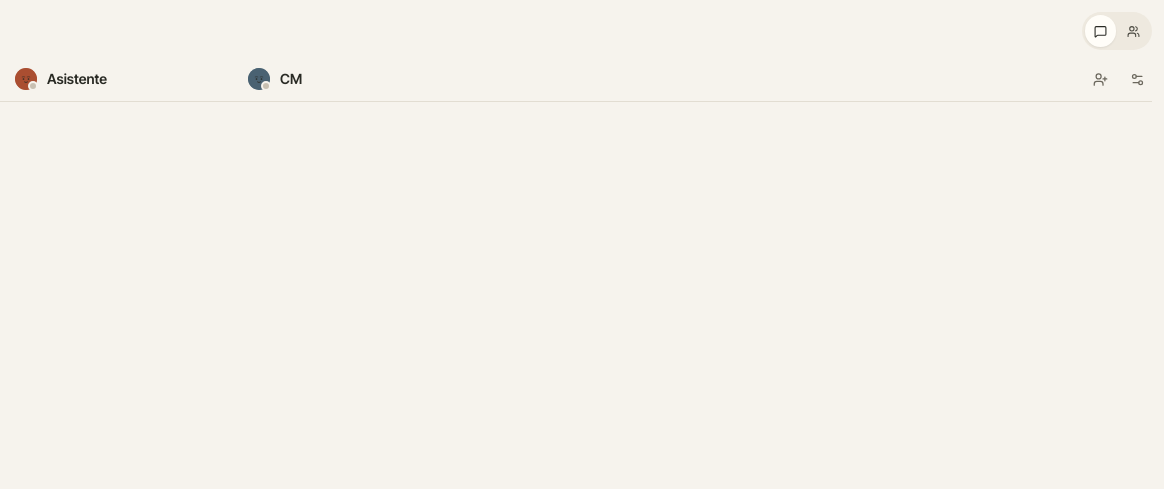
Test case: el destinatario del chat de equipo › con un run CANCELADO y su coordinador borrado, escribe Y muestra el hilo del Asistente
Step 1. Click the button with class "team-rail-team" → coordinates (1134, 31), box top-left (1118, 15), bottom-right (1149, 47)
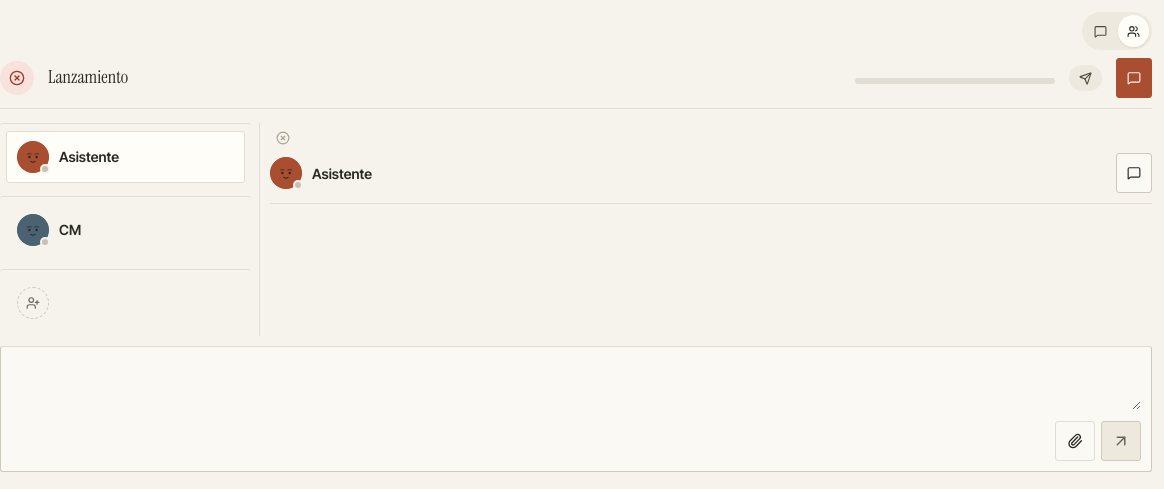
Step 2. Type "seguimos con esto" into the text box → coordinates (576, 382), box top-left (11, 355), bottom-right (1141, 410)
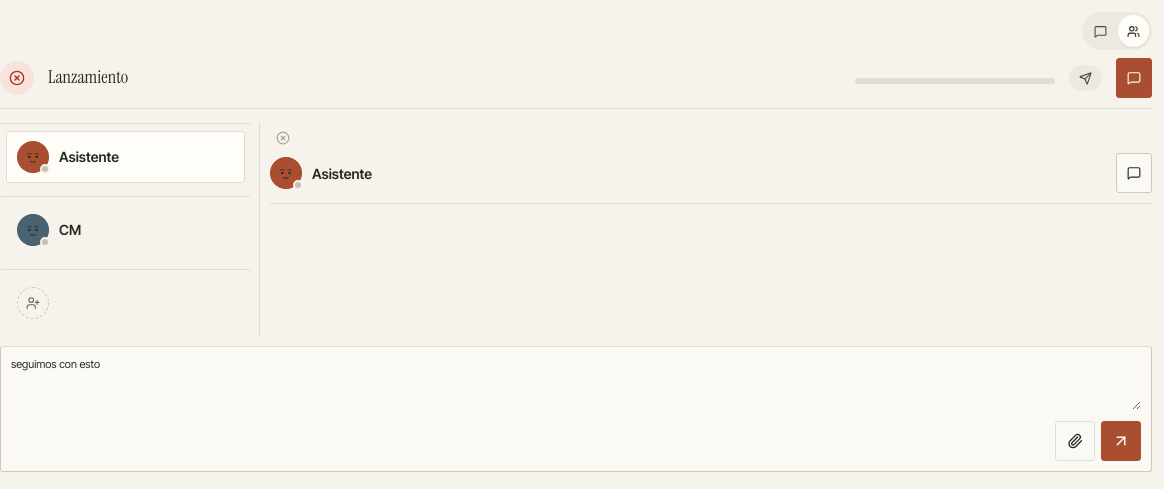
Step 3. Submit the form, box top-left (0, 346), bottom-right (1152, 472)
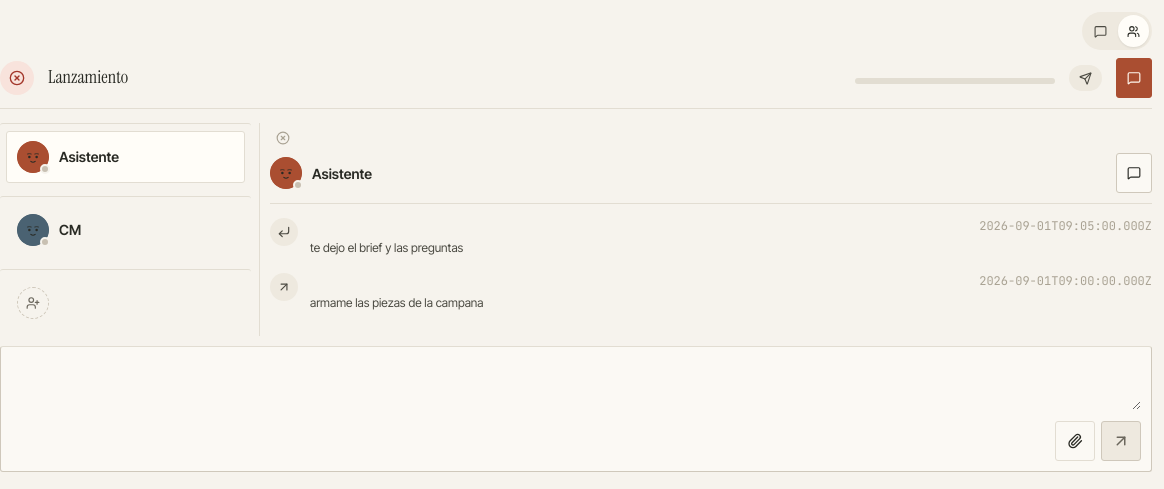
Expected: the text "te dejo el brief y las preguntas" is shown, top-left (310, 240), bottom-right (463, 255)
Expected: the text "armame las piezas de la campana" is shown, top-left (310, 295), bottom-right (484, 310)
